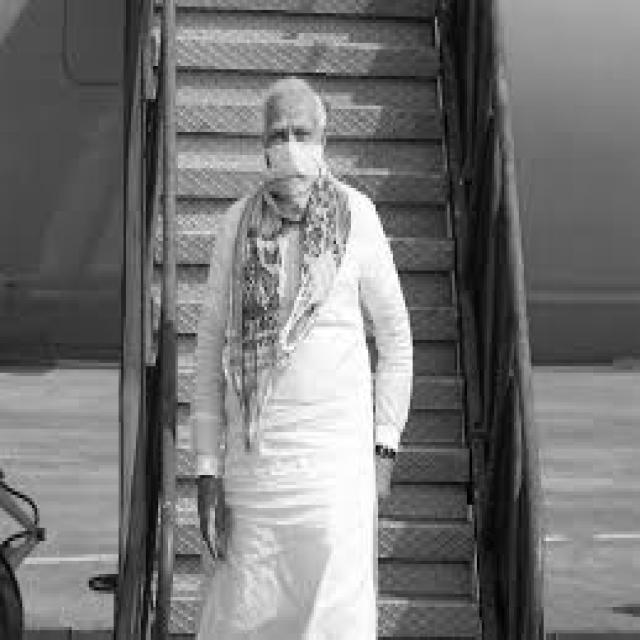without_mask: (262, 138, 326, 182)
